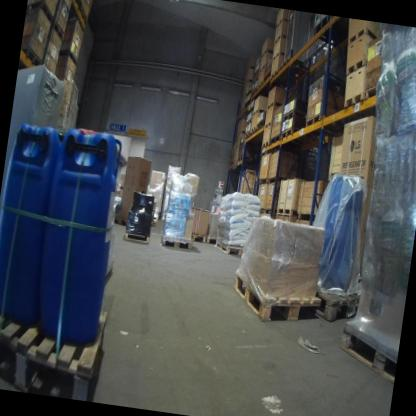pallet: (0, 292, 110, 402), (228, 268, 322, 329), (335, 317, 402, 384), (313, 285, 362, 327), (250, 48, 273, 96), (347, 24, 379, 50), (24, 0, 55, 24), (214, 237, 246, 257), (344, 54, 368, 80), (159, 233, 193, 251), (122, 228, 150, 247), (343, 88, 365, 110), (19, 48, 43, 68), (312, 13, 331, 37), (281, 107, 305, 125), (58, 47, 79, 66), (50, 20, 65, 41), (305, 111, 322, 129), (279, 126, 296, 141), (276, 206, 297, 218), (363, 83, 377, 101), (295, 211, 317, 222), (268, 131, 281, 148), (266, 100, 283, 113), (267, 175, 285, 187), (277, 57, 288, 76), (78, 5, 89, 24), (275, 15, 288, 31), (273, 33, 287, 47), (190, 232, 206, 244), (272, 50, 285, 62), (70, 0, 83, 11), (255, 117, 265, 131), (264, 206, 276, 217), (257, 175, 268, 186), (249, 124, 257, 138), (269, 68, 278, 80), (252, 108, 264, 117), (263, 119, 272, 130), (205, 235, 215, 244), (261, 139, 269, 149), (245, 117, 252, 128), (258, 62, 265, 73), (236, 128, 245, 136), (244, 129, 251, 139), (256, 79, 263, 89), (247, 105, 254, 115), (259, 206, 265, 213), (240, 104, 244, 113), (229, 159, 234, 166), (237, 155, 242, 161), (233, 158, 238, 164), (235, 143, 240, 149)
